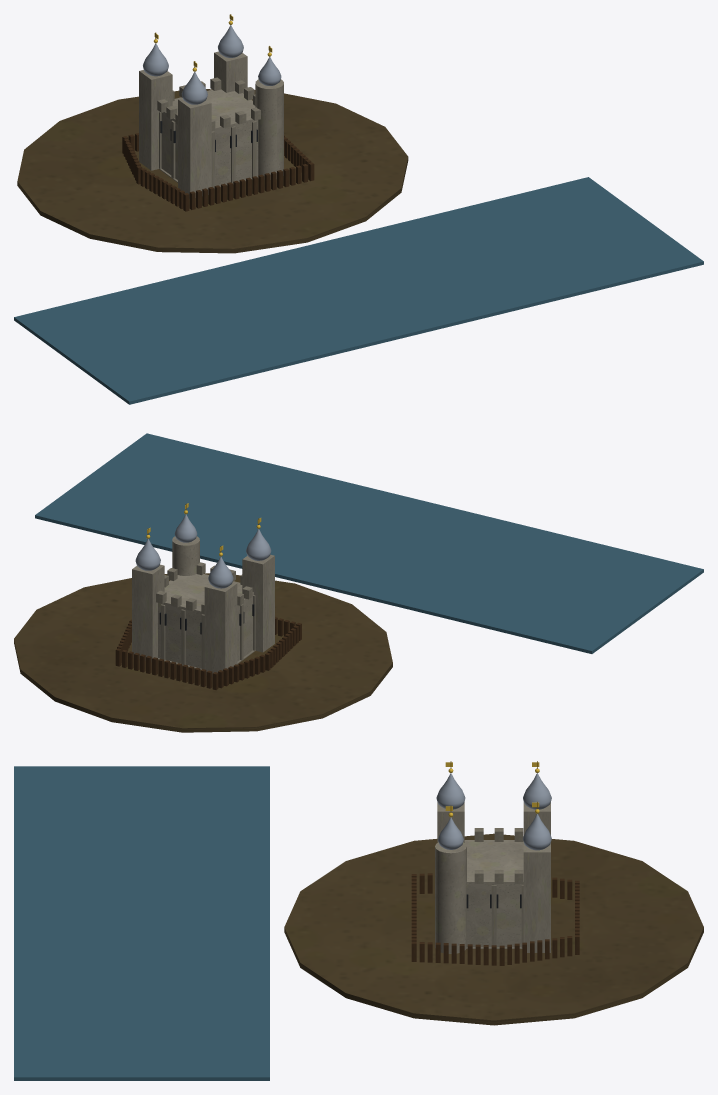
Rendered from tower-of-london-b35.glb.
3 renders of one model, top to bottom at view 1: azimuth 30°, elevation 25°; view 2: azimuth 150°, elevation 25°; view 3: azimuth 270°, elevation 25°, orthographic. The views are drawn at different scales.
Bounding box in the file's own units: 46 × 10.38 × 43.11.
Materials: 9 (6 with a texture image).
